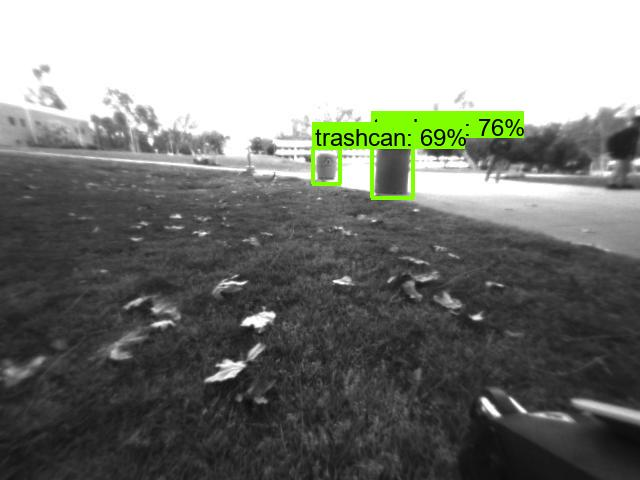trashcan: (377, 140, 410, 197), (314, 152, 341, 179)
